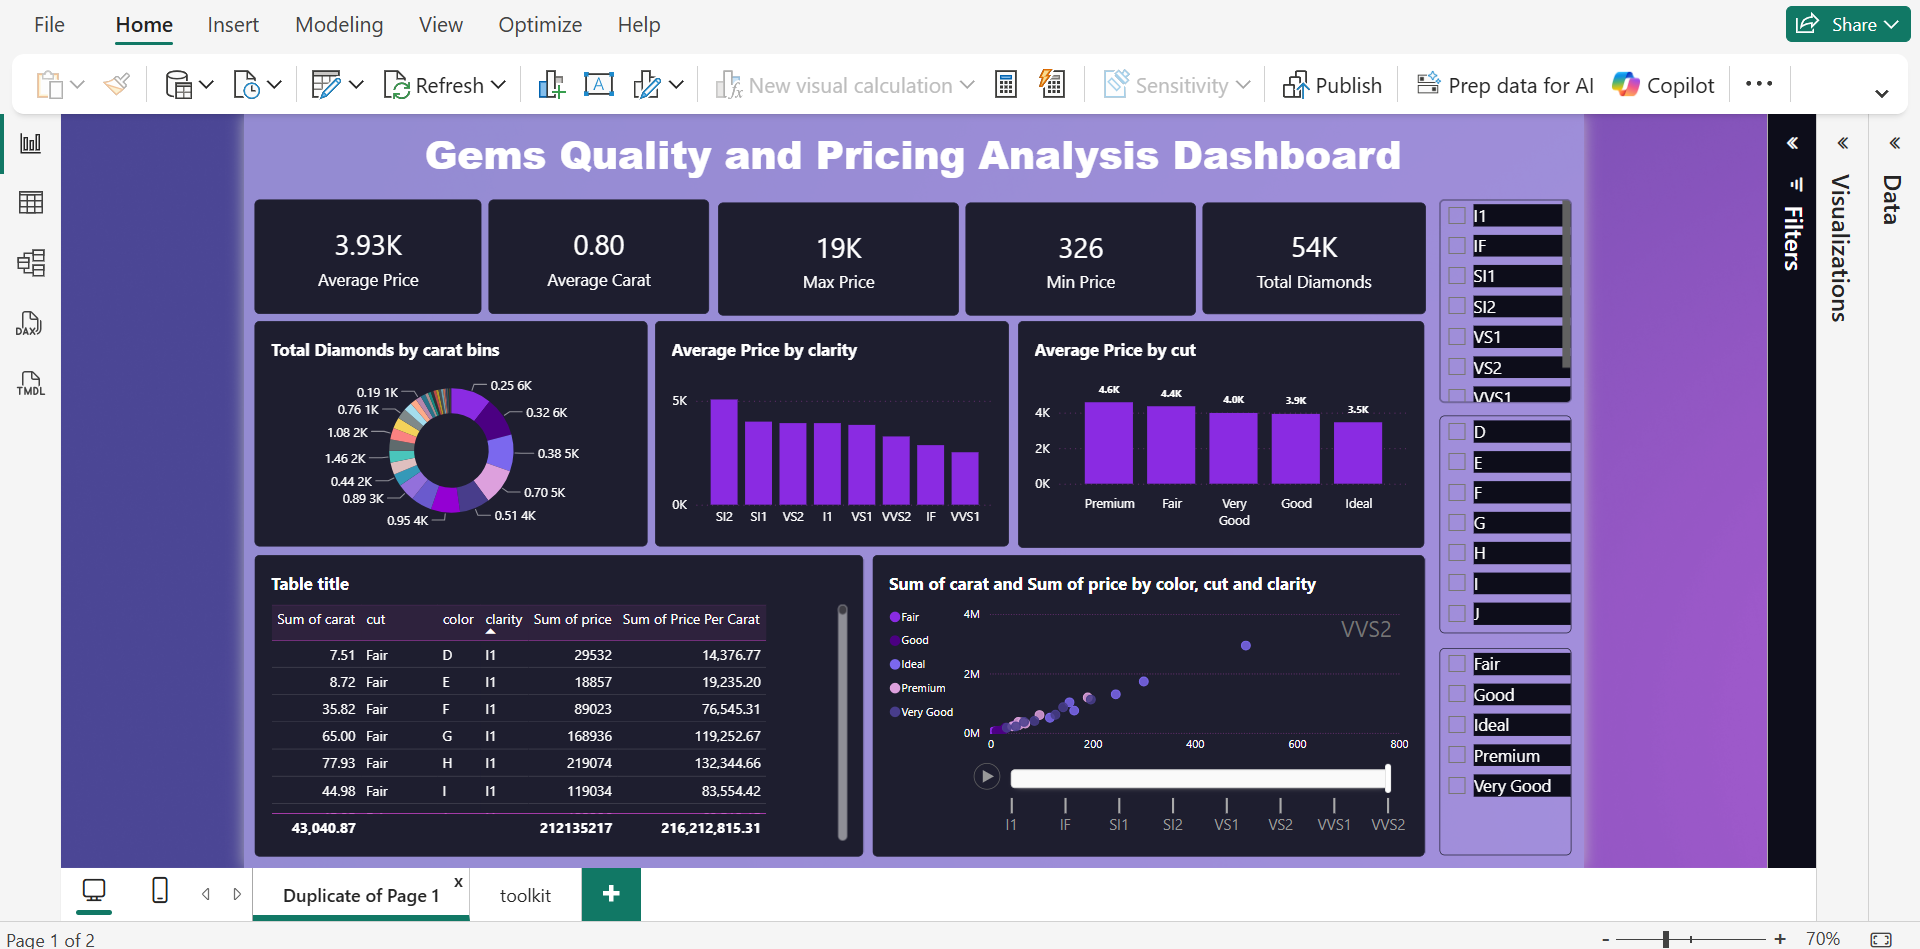

Layout of this report page (visuals, bound fields, positions):
{"tool":"powerbi","page":{"name":"Duplicate of Page 1","canvas":[1280,720],"ordinal":0},"visuals":[{"type":"card","fields":{"Values":["diamonds.Average Carat"]},"box":[233.8,82.3,210.8,109.2],"z":0},{"type":"card","fields":{"Values":["diamonds.Average Price"]},"box":[10,81.5,216.9,109.2],"z":1000},{"type":"scatterChart","fields":{"X":["Sum(diamonds.carat)"],"Y":["Sum(diamonds.price)"],"Category":["diamonds.color"],"Series":["diamonds.cut"],"Play":["diamonds.clarity"]},"box":[600,420.7,527.1,287.9],"z":2000},{"type":"clusteredColumnChart","fields":{"Category":["diamonds.cut"],"Y":["diamonds.Average Price"]},"box":[739.1,197.3,388.2,216.4],"z":3000},{"type":"columnChart","fields":{"Category":["diamonds.clarity"],"Y":["diamonds.Average Price"]},"box":[392.3,197.7,337.7,215.4],"z":4000},{"type":"donutChart","fields":{"Category":["diamonds.carat bins"],"Y":["diamonds.Total Diamonds"]},"box":[10,198,375,215],"z":5000},{"type":"tableEx","fields":{"Values":["Sum(diamonds.carat)","diamonds.cut","diamonds.color","diamonds.clarity","Sum(diamonds.price)","Sum(diamonds.Price Per Carat)"]},"box":[10,420.7,581.4,287.9],"z":6000},{"type":"textbox","box":[10,11,1258,63],"z":7000},{"type":"slicer","fields":{"Values":["diamonds.cut"]},"box":[1142,510,126,198],"z":8000},{"type":"slicer","fields":{"Values":["diamonds.color"]},"box":[1142,288,126,208],"z":9000},{"type":"slicer","fields":{"Values":["diamonds.clarity"]},"box":[1142,82,126,194],"z":10000},{"type":"card","fields":{"Values":["diamonds.Max Price"]},"box":[452.3,83.8,230,107.7],"z":11000},{"type":"card","fields":{"Values":["diamonds.Min Price"]},"box":[688.5,83.8,220,107.7],"z":12000},{"type":"card","fields":{"Values":["diamonds.Total Diamonds"]},"box":[915.4,83.8,213.1,106.9],"z":13000}]}

Visuals, with their boxes on the page's 1280x720 design canvas (x1, y1, x2, y2). These are canvas units, not pixel positions in the 1920x949 screenshot, which may show the page scaled, cropped or inside an application window:
card - diamonds.Average Carat: <bbox>234, 82, 445, 192</bbox>
card - diamonds.Average Price: <bbox>10, 82, 227, 191</bbox>
scatterChart - Sum(diamonds.carat) x Sum(diamonds.price): <bbox>600, 421, 1127, 709</bbox>
clusteredColumnChart - diamonds.cut x diamonds.Average Price: <bbox>739, 197, 1127, 414</bbox>
columnChart - diamonds.clarity x diamonds.Average Price: <bbox>392, 198, 730, 413</bbox>
donutChart - diamonds.carat bins x diamonds.Total Diamonds: <bbox>10, 198, 385, 413</bbox>
tableEx - Sum(diamonds.carat) x diamonds.cut: <bbox>10, 421, 591, 709</bbox>
textbox: <bbox>10, 11, 1268, 74</bbox>
slicer - diamonds.cut: <bbox>1142, 510, 1268, 708</bbox>
slicer - diamonds.color: <bbox>1142, 288, 1268, 496</bbox>
slicer - diamonds.clarity: <bbox>1142, 82, 1268, 276</bbox>
card - diamonds.Max Price: <bbox>452, 84, 682, 192</bbox>
card - diamonds.Min Price: <bbox>688, 84, 908, 192</bbox>
card - diamonds.Total Diamonds: <bbox>915, 84, 1128, 191</bbox>
